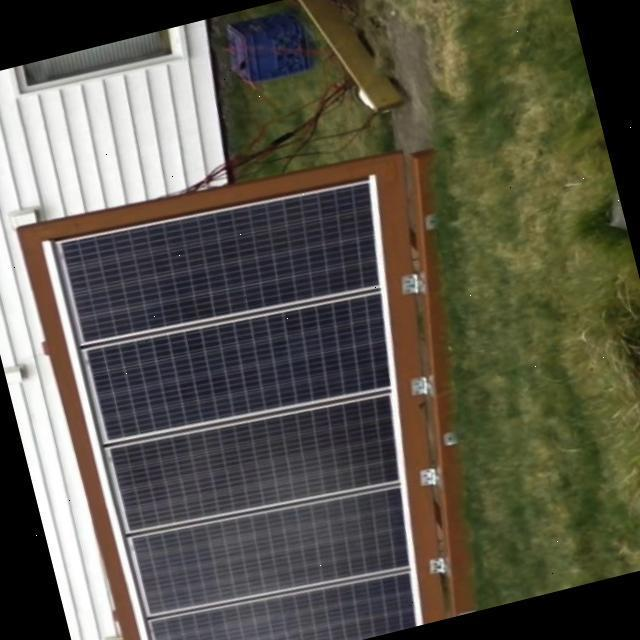Normal Solar Panel: (58, 168, 390, 356), (85, 281, 399, 454), (110, 382, 408, 546), (132, 475, 414, 630), (148, 560, 418, 640)
